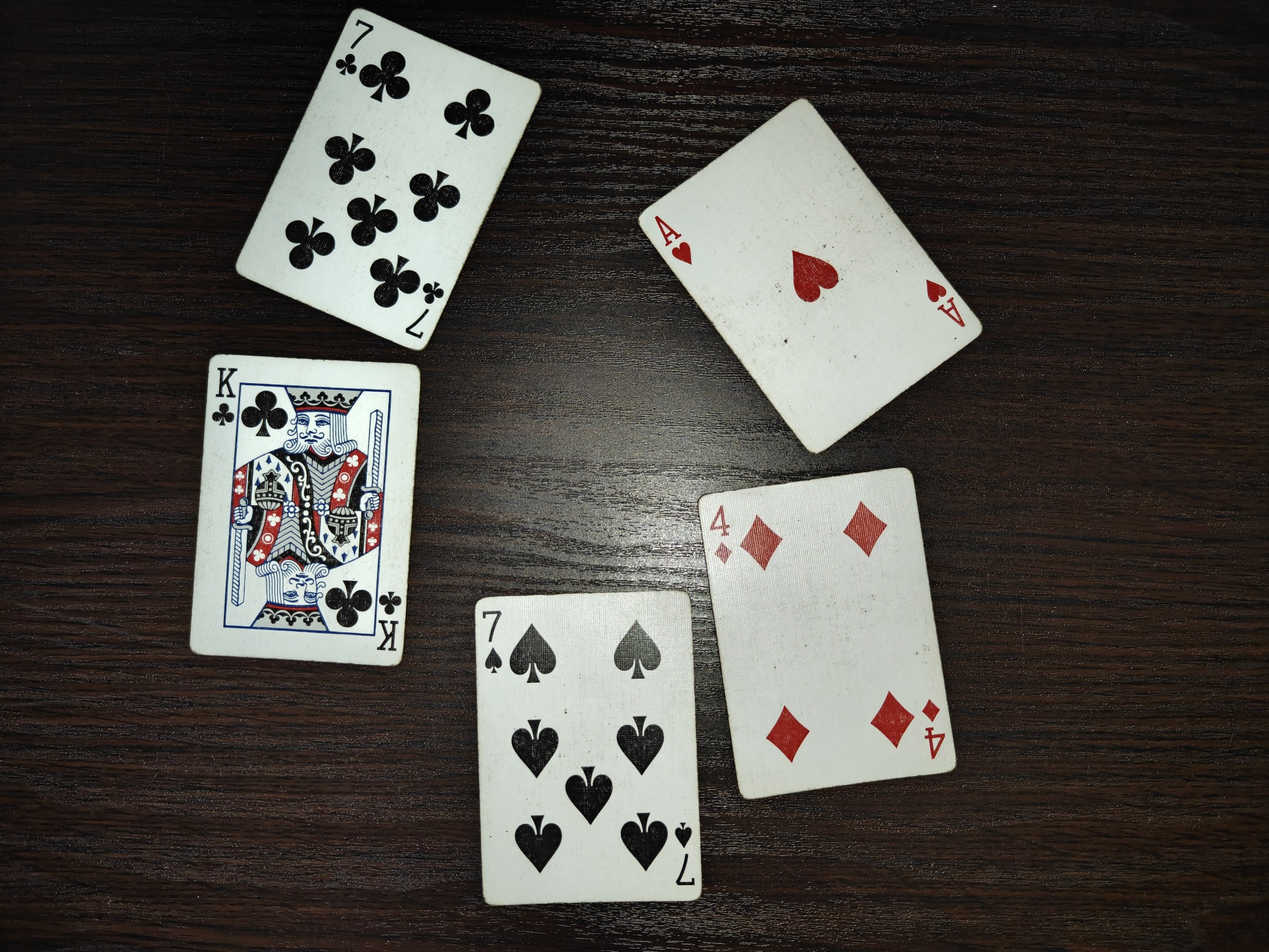4D: (699, 466, 960, 799)
7C: (235, 8, 541, 353)
7S: (474, 588, 703, 906)
AH: (640, 95, 983, 455)
KC: (188, 353, 419, 667)
